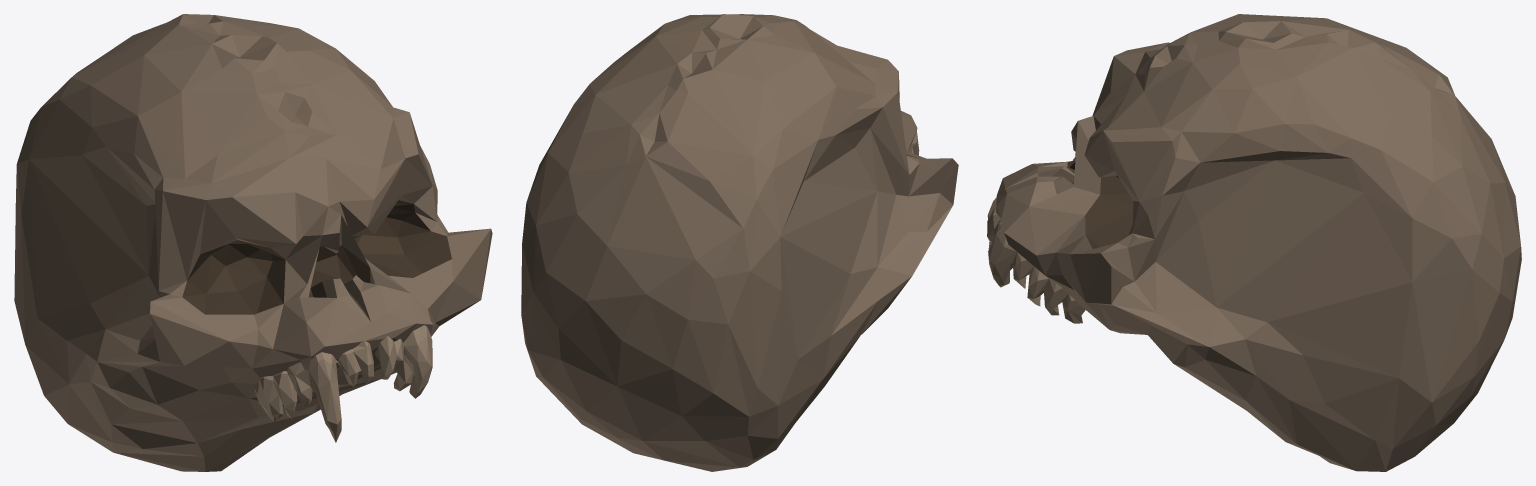
The model's file is pit_skull_huge.gltf.
3 views of the same model, side by side, from view 1: azimuth 30°, elevation 25°; view 2: azimuth 150°, elevation 25°; view 3: azimuth 270°, elevation 25° (orthographic). The views are drawn at different scales.
Parts seen in each view (by area): view 1: pit_skull_huge; view 2: pit_skull_huge; view 3: pit_skull_huge.
Part boxes in pixels (bbox=[...]): pit_skull_huge: bbox=[14, 14, 492, 471]; pit_skull_huge: bbox=[521, 14, 958, 471]; pit_skull_huge: bbox=[987, 14, 1521, 471].
Size of the model in its own units: 4.9 by 6.24 by 7.02.
Materials: 1 (1 with a texture image).
